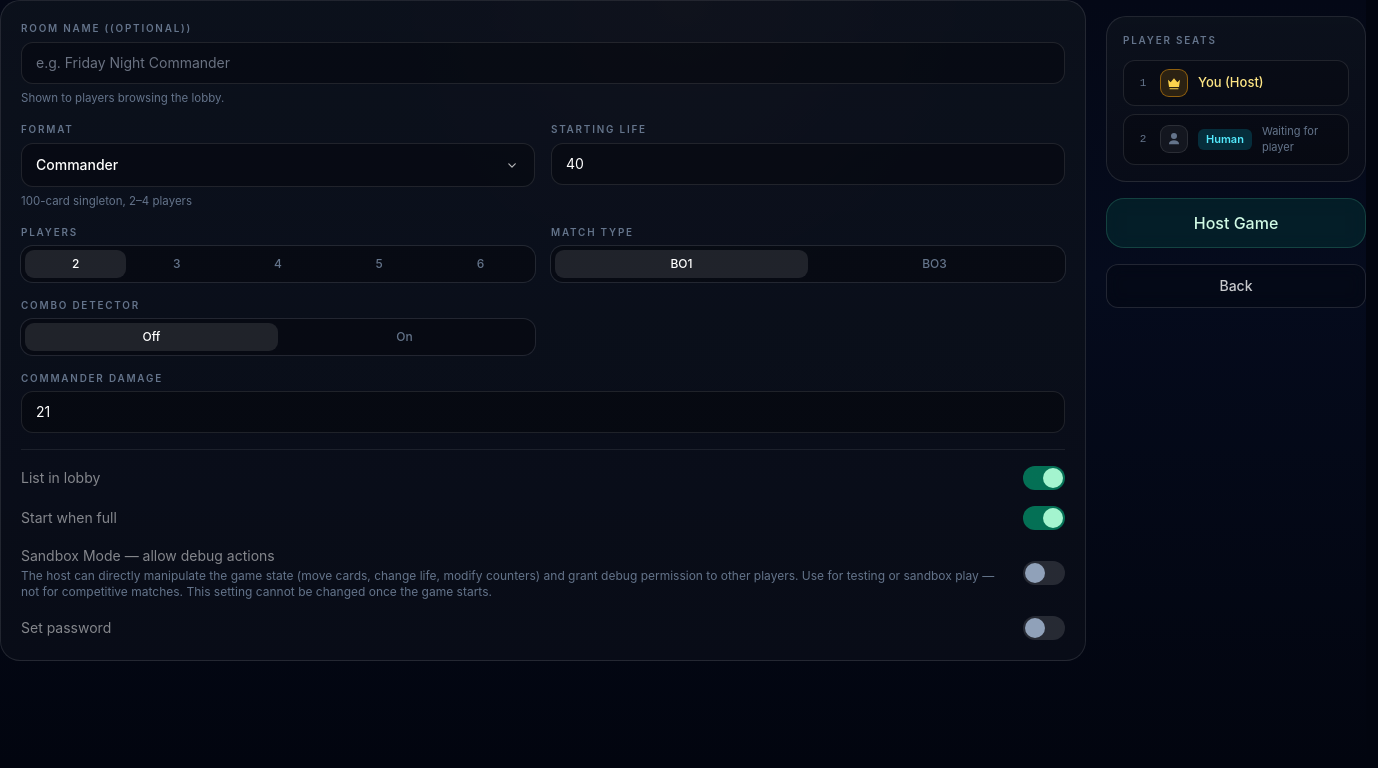
it: HostSetup › renders and updates AI seat difficulty with translated labels
Click the button "Human" at {"x": 1225, "y": 139}, box top-left (1198, 129), bottom-right (1252, 150)
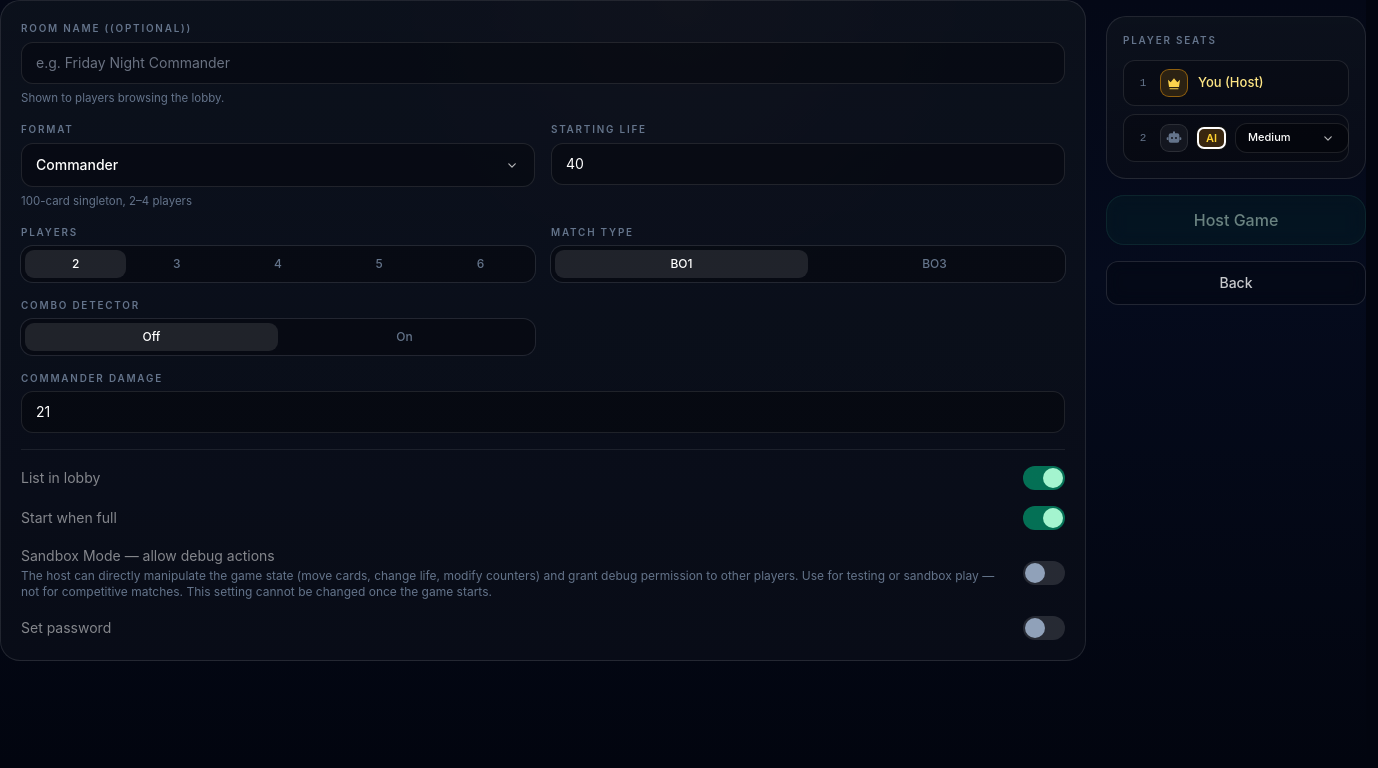
Expected: the button with aria-label "AI difficulty" reads "Medium"
Click the button with aria-label "AI difficulty" at {"x": 1292, "y": 138}, box top-left (1235, 123), bottom-right (1349, 153)
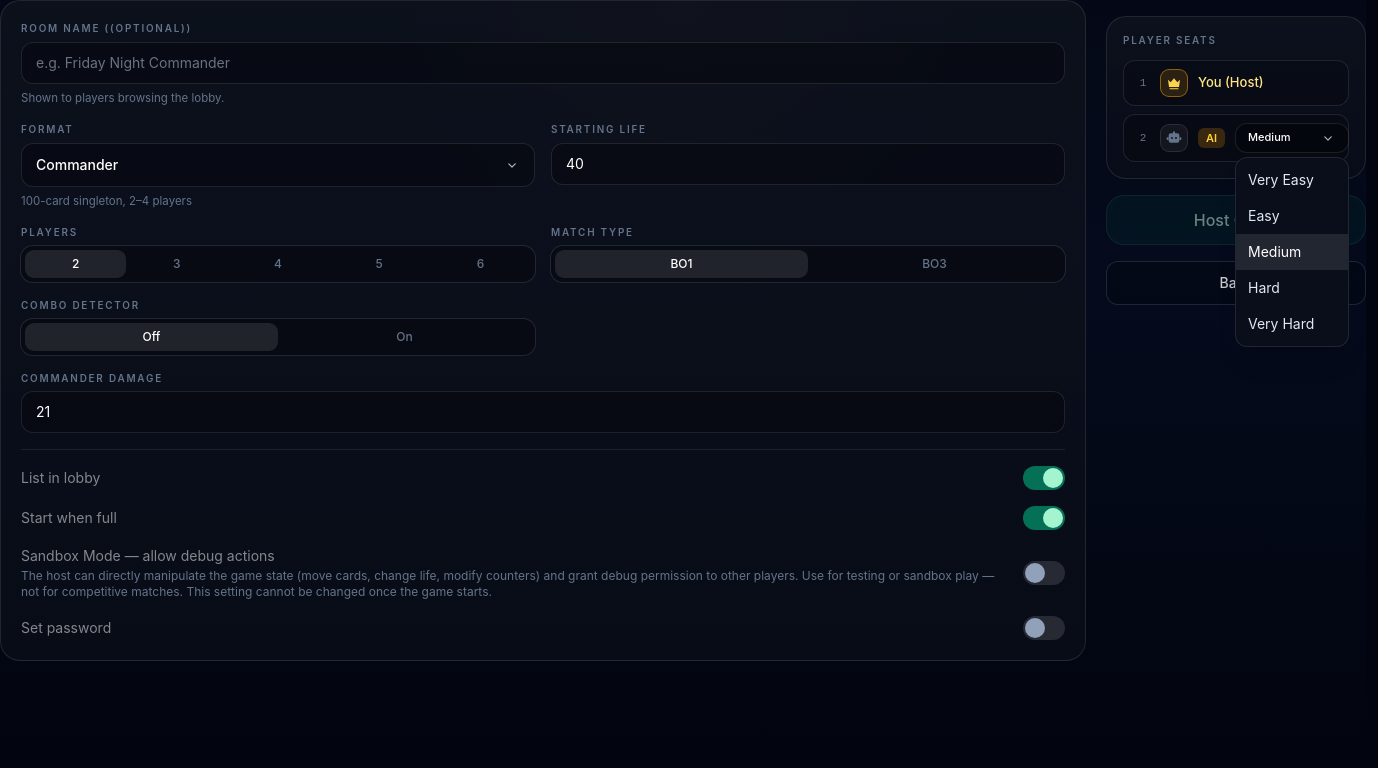
Click the option "Very Hard" at {"x": 1292, "y": 324}, box top-left (1236, 306), bottom-right (1348, 342)
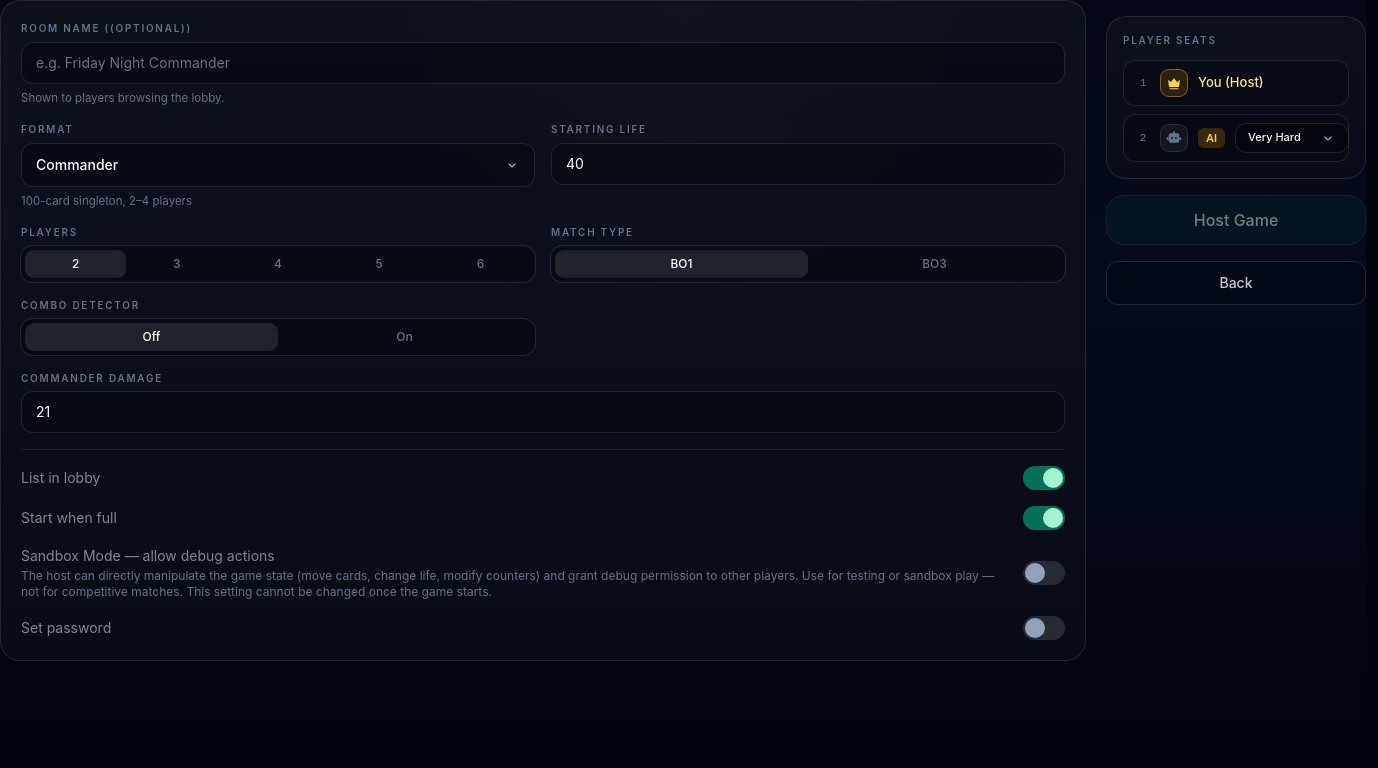
Expected: the button with aria-label "AI difficulty" reads "Very Hard", top-left (1235, 123), bottom-right (1349, 153)
